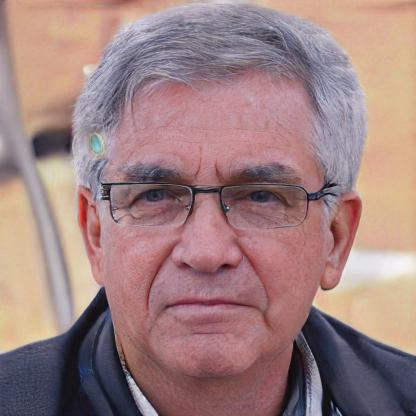glasses: (101, 176, 319, 238)
